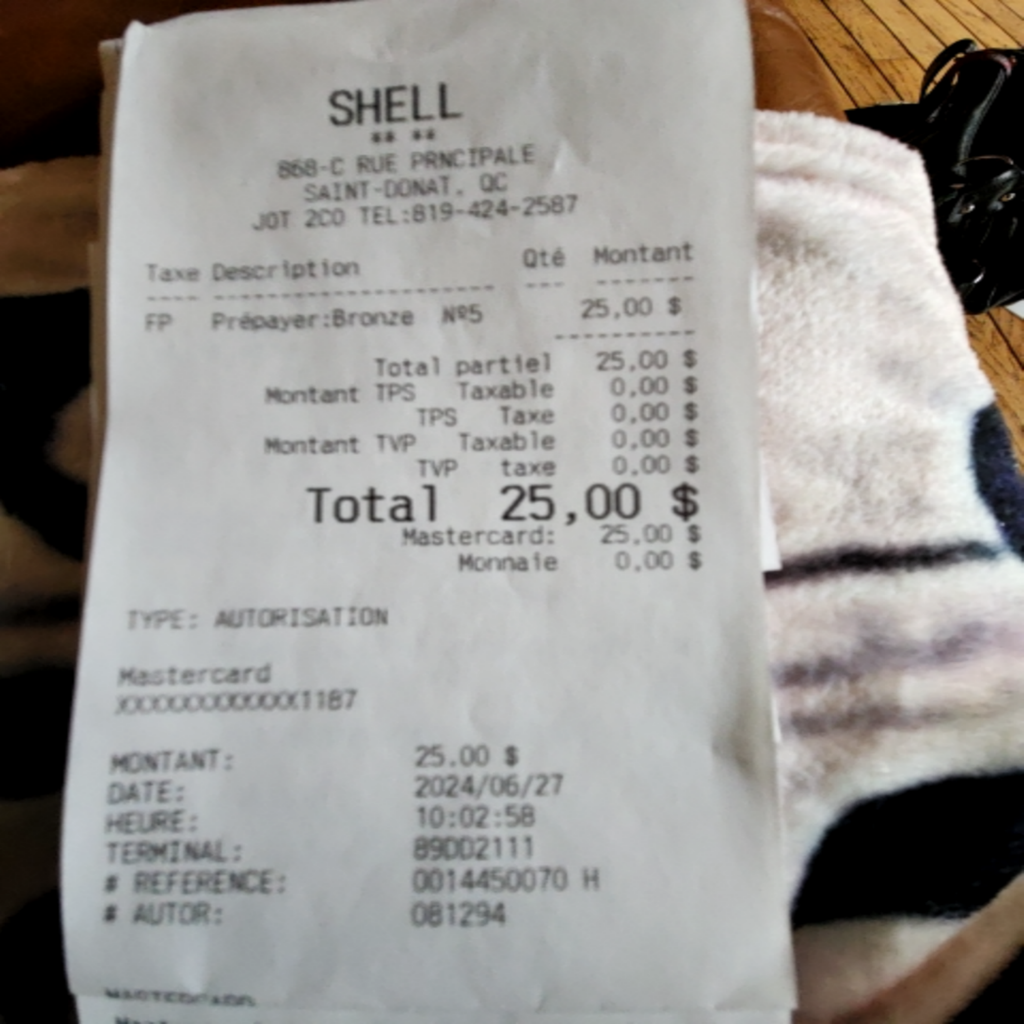recipt: (57, 2, 793, 1009)
